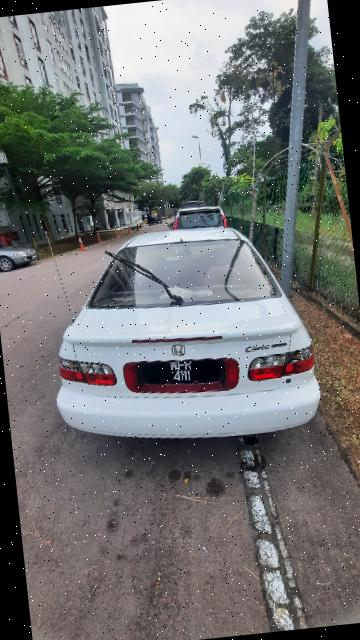License_Plate: (132, 351, 233, 402)
car: (34, 207, 329, 471)
